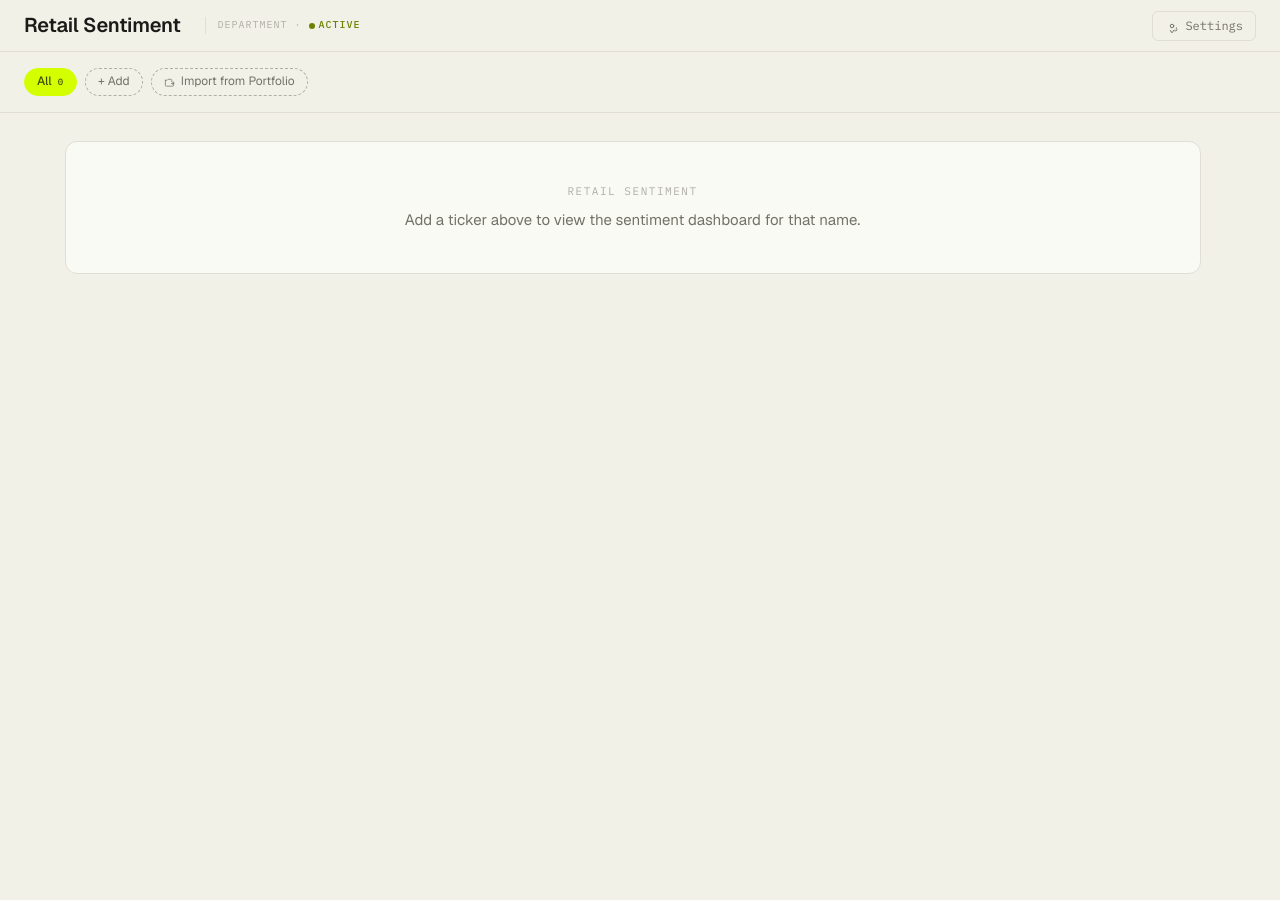
Test: RetailSentiment page › renders evidence list
The image size is (1280, 900).
Click the button with test id "ticker-add-button" at (114, 82), box [85,68,143,96]
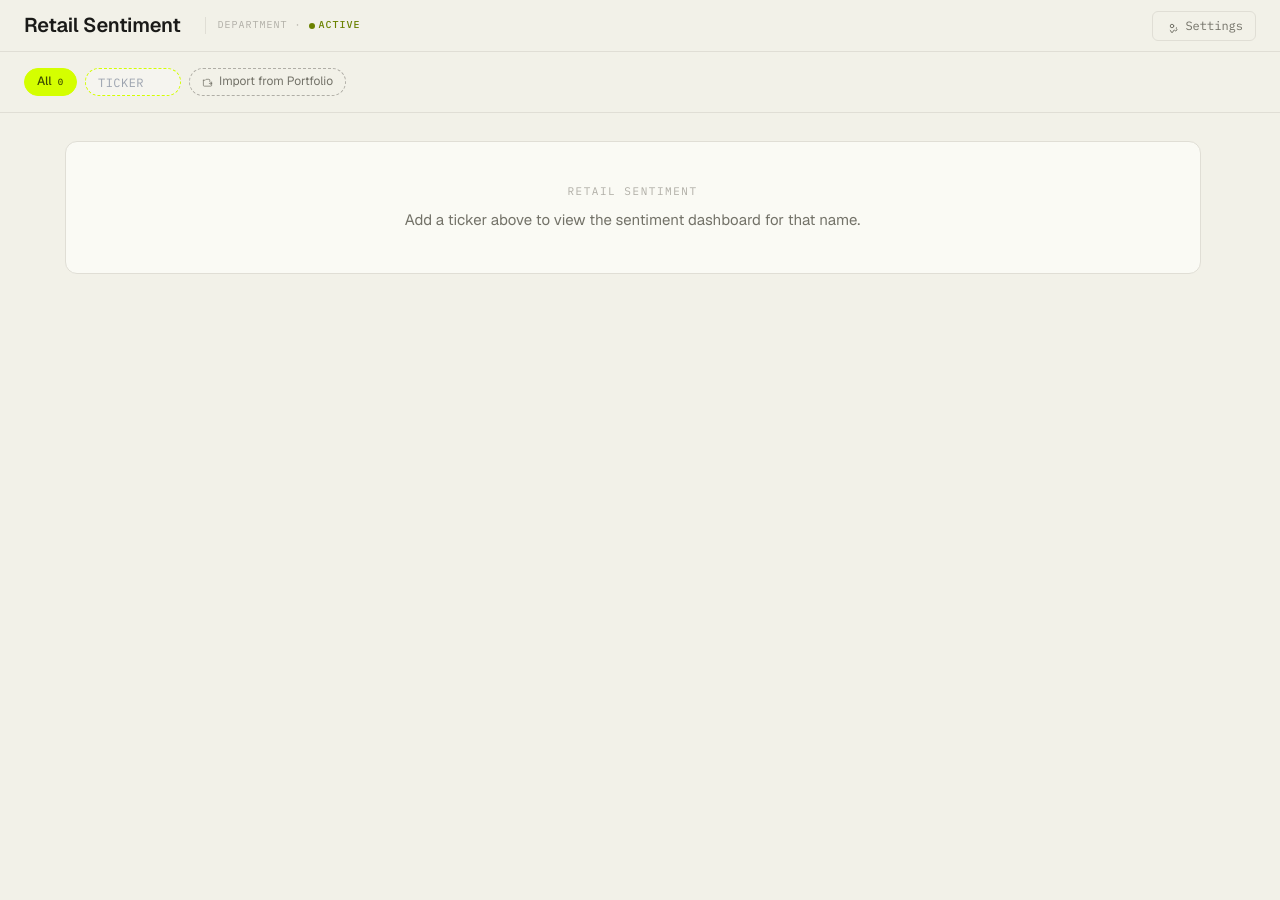
Type "AAPL" into the field with test id "ticker-add-input" at (133, 82), box [85,68,181,96]
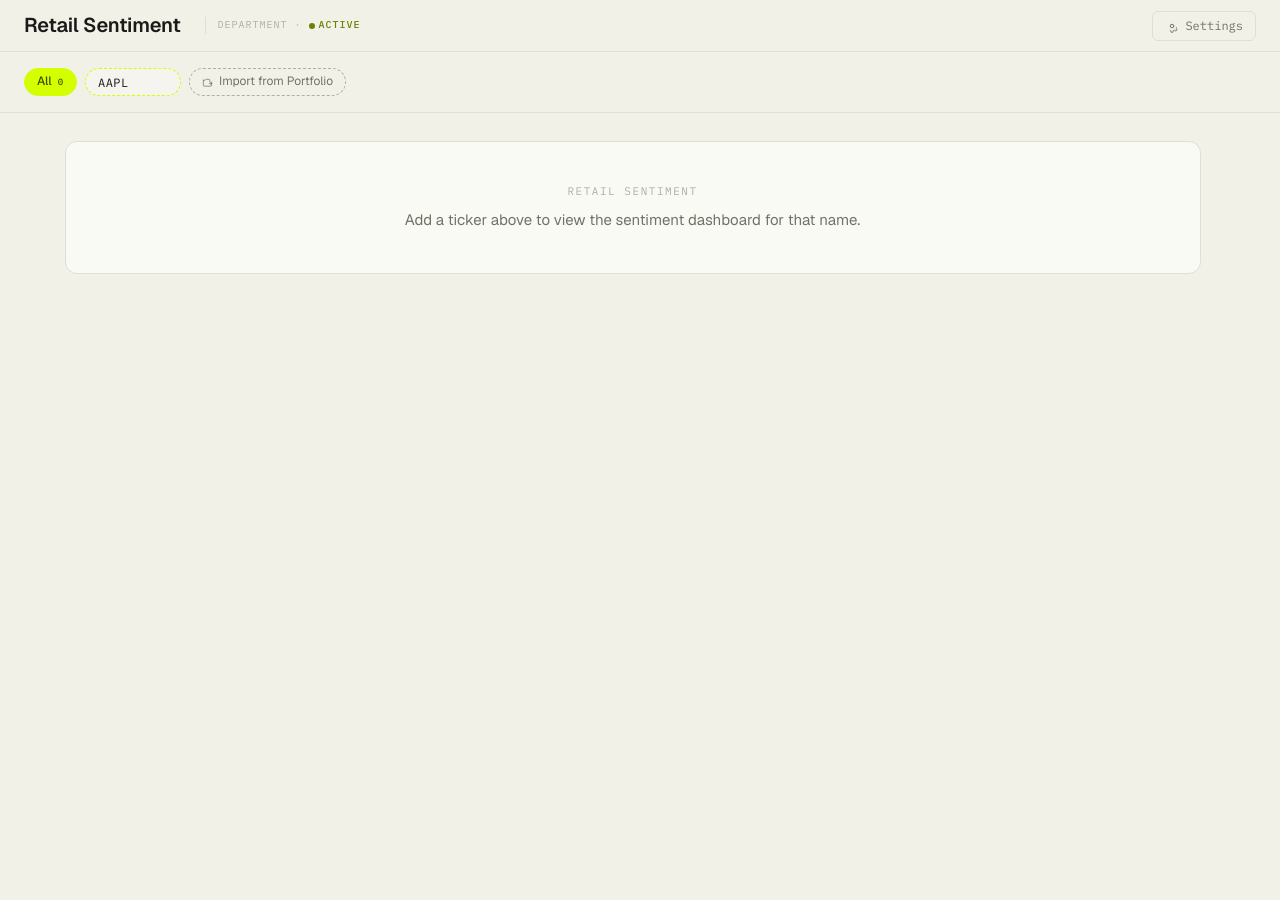
Press Enter in the field with test id "ticker-add-input", box [85,68,181,96]
(page scrolled)
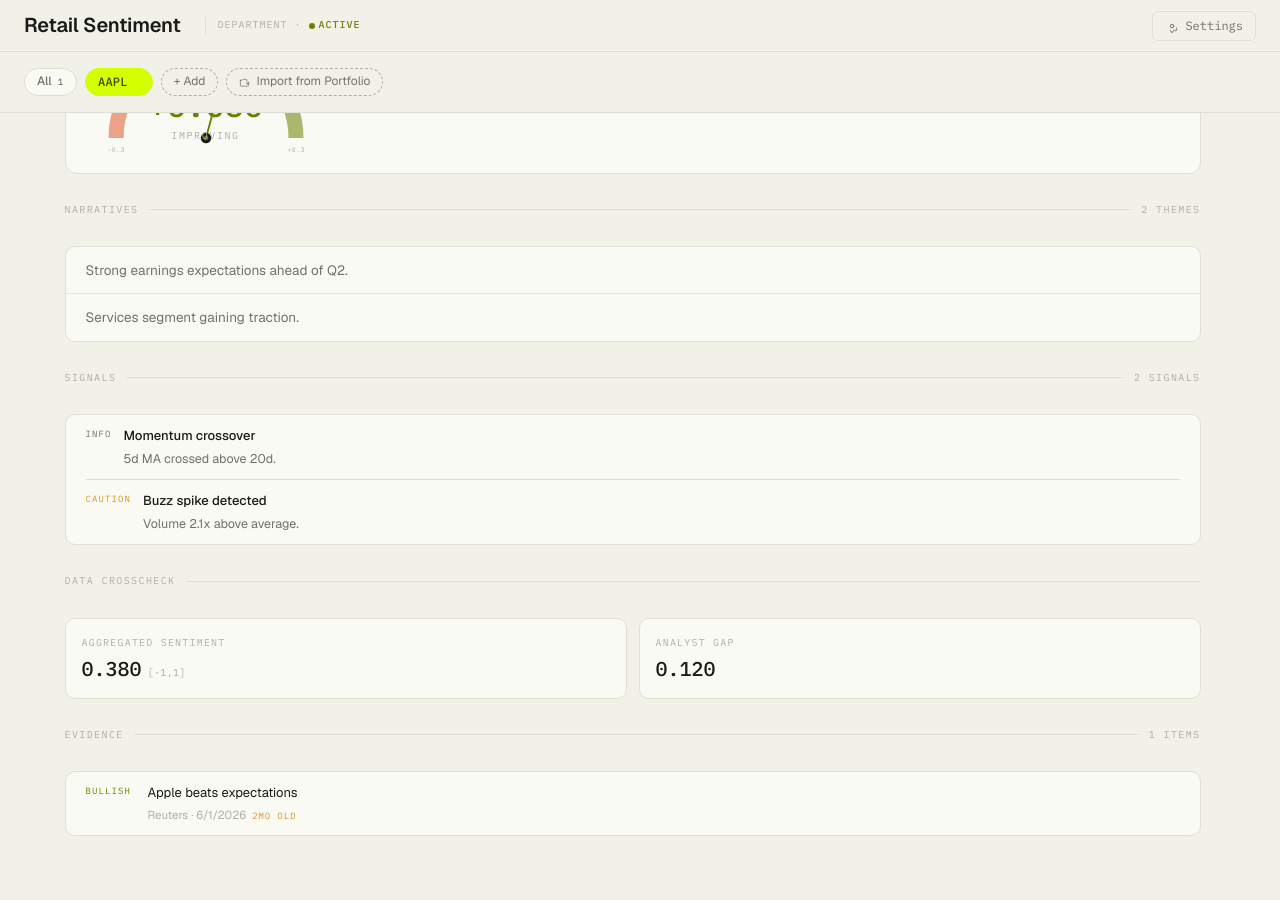
Result: the list with test id "rs-evidence" is shown at [64,771,1200,836]
Result: the link "Apple beats expectations" is shown at [148,784,298,801]
